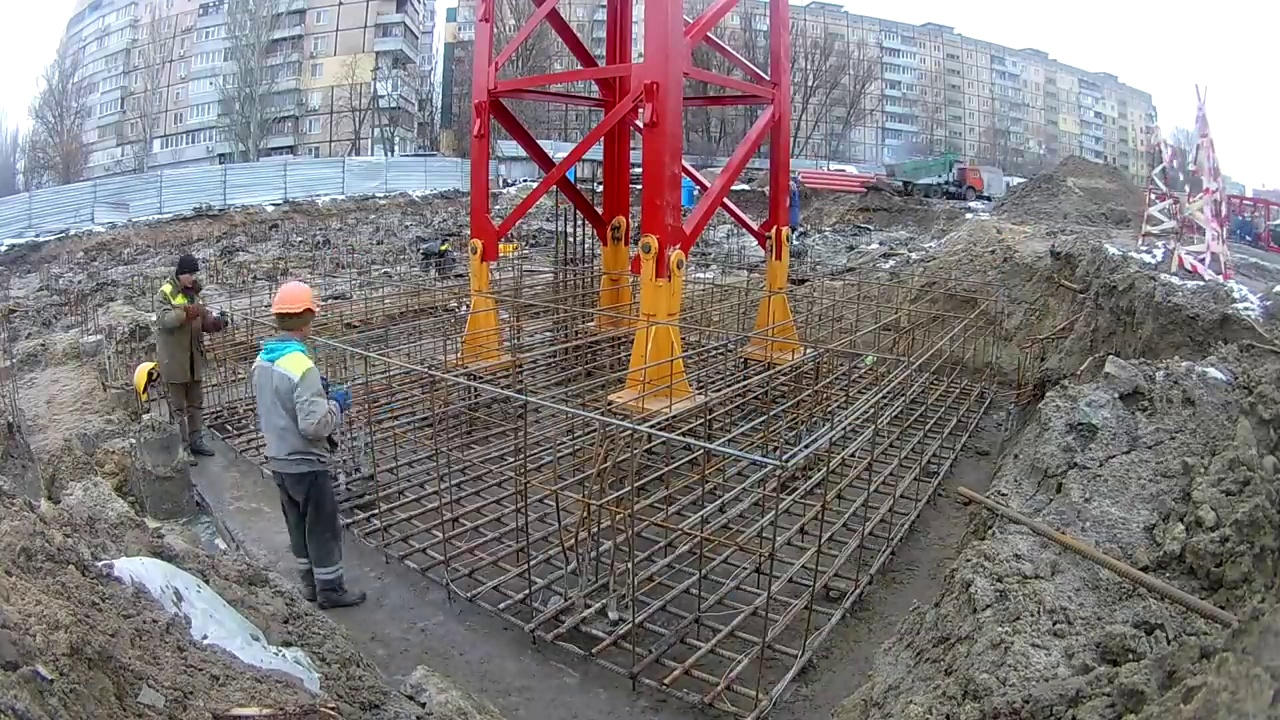helmet: (271, 282, 318, 317), (133, 362, 158, 402)
helmet-off: (171, 255, 204, 293)
helmet-on: (270, 277, 320, 344)
person: (249, 279, 368, 607), (154, 251, 226, 473)
